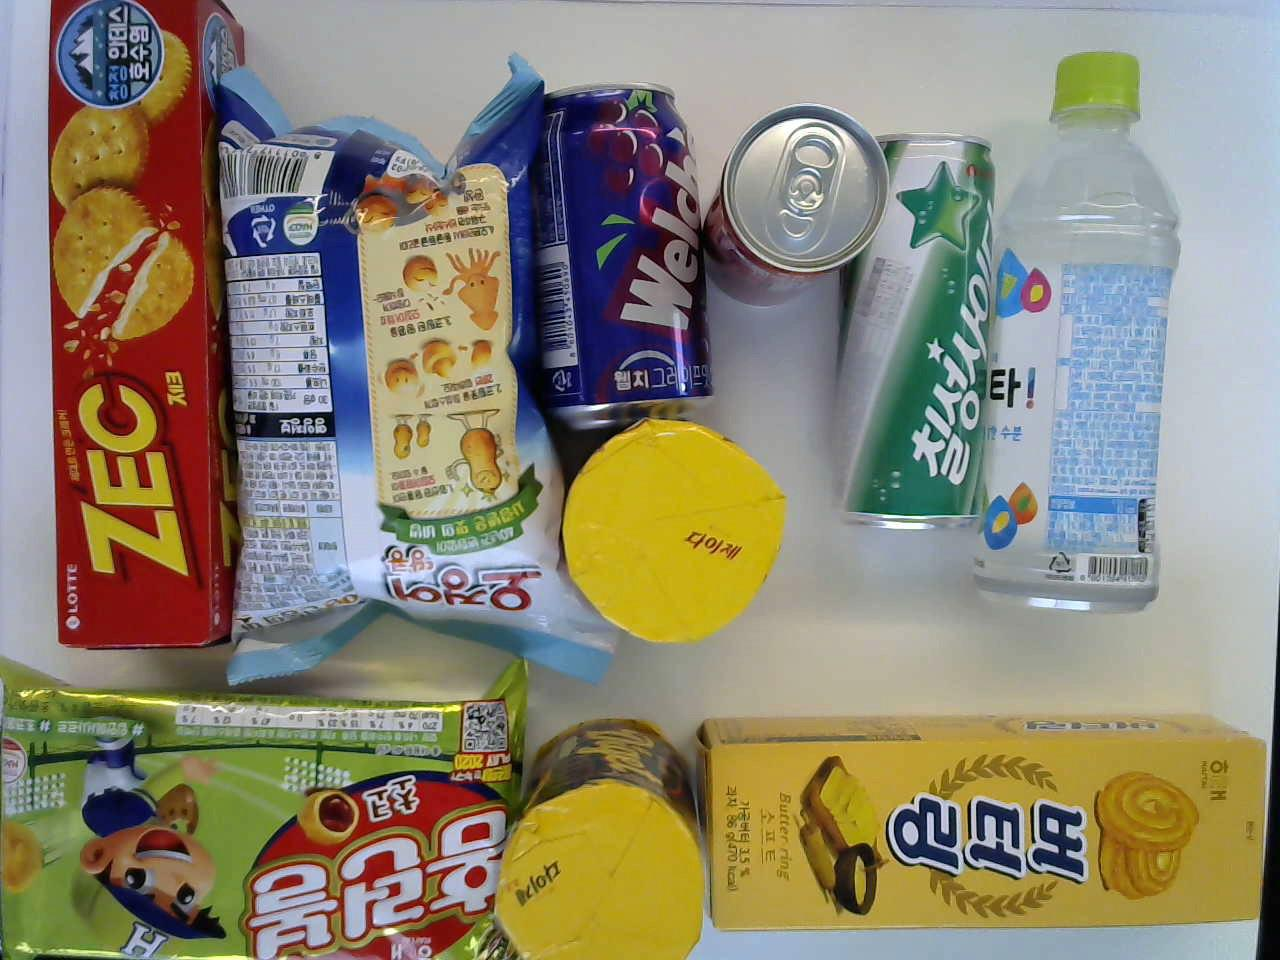buttering: (703, 715, 1263, 920)
cidar: (821, 136, 1005, 535)
coke: (701, 102, 892, 286)
diget_choco: (509, 721, 698, 960)
diget_ori: (558, 438, 790, 653)
homerunball: (5, 677, 497, 960)
squid_peanut: (221, 55, 622, 695)
toreta: (967, 56, 1178, 617)
welchs: (529, 75, 721, 429)
zec: (55, 1, 250, 649)
